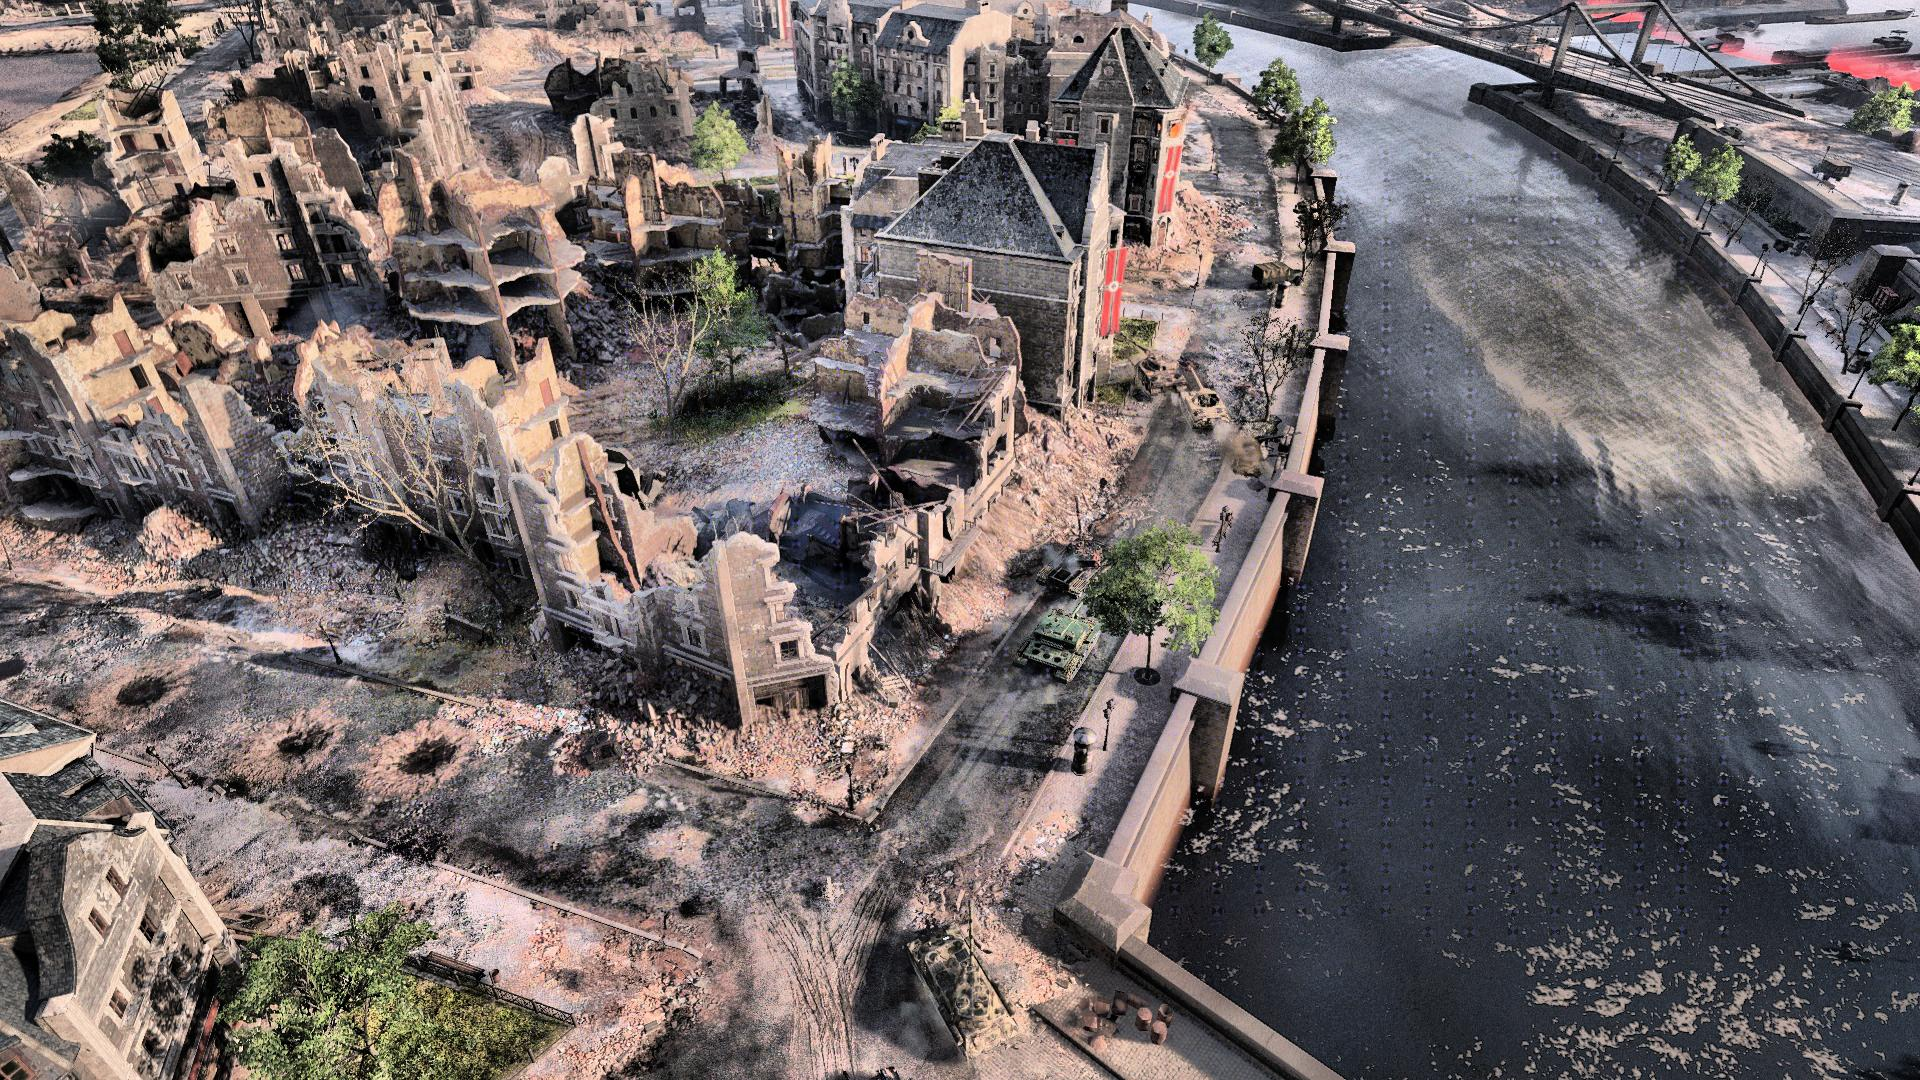military-vehicle: (910, 891, 1021, 1044), (1036, 493, 1112, 597), (1022, 595, 1110, 680), (1117, 330, 1187, 394), (1182, 367, 1232, 434)
